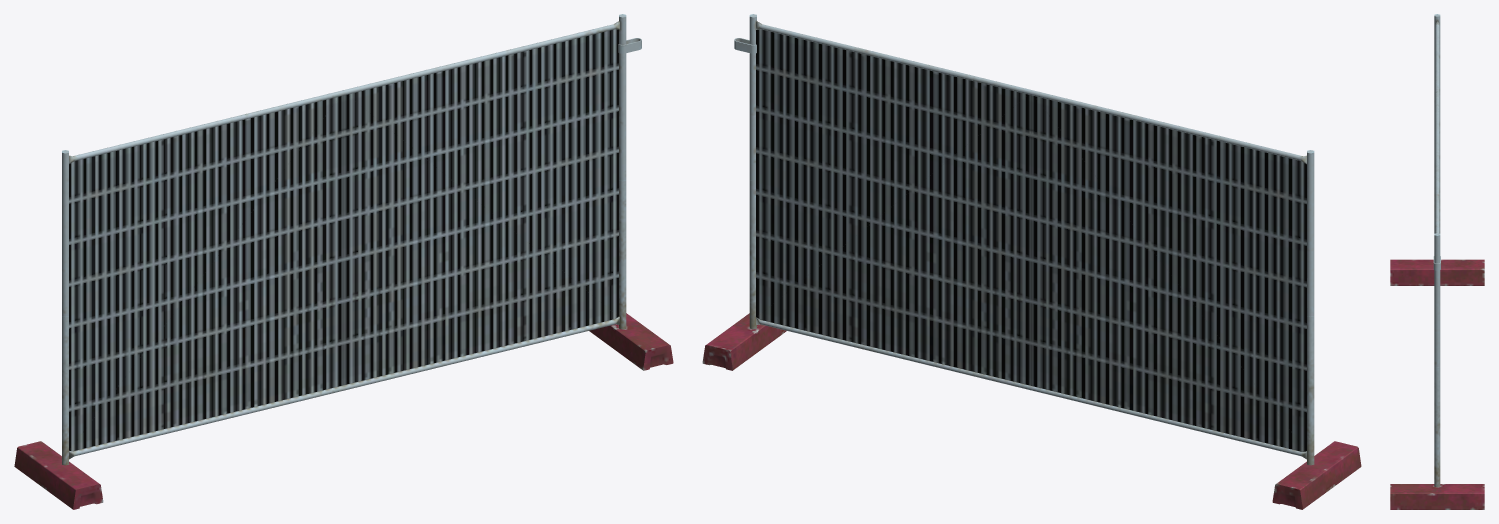
File: sm22_067_constructionfencea.fbx
The picture shows the model from 3 angles, left to right: view 1: azimuth 30°, elevation 25°; view 2: azimuth 150°, elevation 25°; view 3: azimuth 270°, elevation 25°; orthographic projection. The views are drawn at different scales.
Visible parts, largest first — view 1: LOD_1_Group_0_Sub_2__sm22_067_constructionfenceA_A_Mat, LOD_1_Group_0_Sub_1__sm22_067_constructionfenceA_B_Mat; view 2: LOD_1_Group_0_Sub_2__sm22_067_constructionfenceA_A_Mat, LOD_1_Group_0_Sub_1__sm22_067_constructionfenceA_B_Mat; view 3: LOD_1_Group_0_Sub_1__sm22_067_constructionfenceA_B_Mat.
Part boxes in pixels (left/top/right/bottom): LOD_1_Group_0_Sub_2__sm22_067_constructionfenceA_A_Mat: left=69, top=29, right=618, bottom=451; LOD_1_Group_0_Sub_1__sm22_067_constructionfenceA_B_Mat: left=14, top=14, right=673, bottom=509; LOD_1_Group_0_Sub_2__sm22_067_constructionfenceA_A_Mat: left=756, top=29, right=1306, bottom=451; LOD_1_Group_0_Sub_1__sm22_067_constructionfenceA_B_Mat: left=702, top=14, right=1361, bottom=509; LOD_1_Group_0_Sub_1__sm22_067_constructionfenceA_B_Mat: left=1390, top=14, right=1484, bottom=509.
Bounding box in the file's own units: 3.77 × 1.99 × 0.6382.
